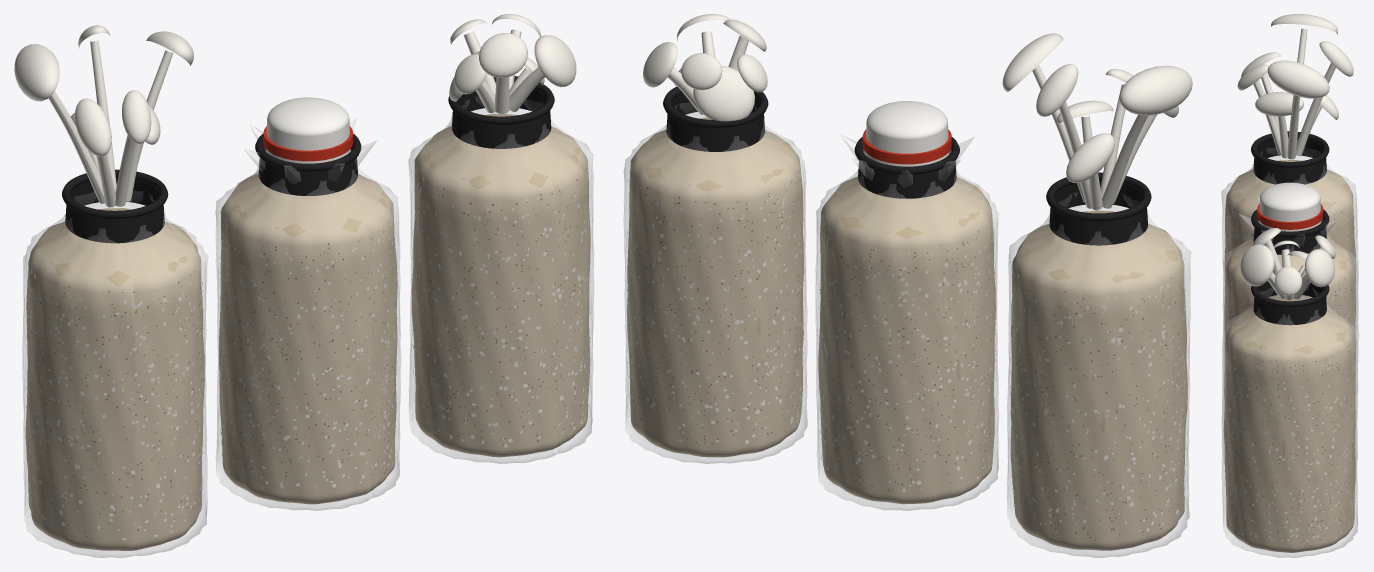
Rendered from baglog_jamur.glb.
The picture shows the model from 3 angles, left to right: view 1: azimuth 30°, elevation 25°; view 2: azimuth 150°, elevation 25°; view 3: azimuth 270°, elevation 25°; orthographic projection. The views are drawn at different scales.
Parts seen in each view (by area): view 1: baglog_kiri_plastic_bag, baglog_kanan_plastic_bag, baglog_tengah_plastic_bag, baglog_tengah_substrate, baglog_kanan_substrate, baglog_kiri_substrate, baglog_kiri, baglog_kanan, baglog_kiri_neck_ring, baglog_kanan_neck_ring, baglog_kiri_mycelium, baglog_tengah_plug_top (+12 smaller); view 2: baglog_kiri_plastic_bag, baglog_kanan_plastic_bag, baglog_tengah_plastic_bag, baglog_kiri_substrate, baglog_kanan_substrate, baglog_tengah_substrate, baglog_kiri, baglog_kanan, baglog_kiri_neck_ring, baglog_kanan_neck_ring, baglog_tengah_plug_top, baglog_tengah_mycelium (+12 smaller); view 3: baglog_kanan_plastic_bag, baglog_kanan_substrate, baglog_kiri, baglog_kiri_plastic_bag, baglog_kiri_substrate, baglog_kanan, baglog_tengah_plastic_bag, baglog_tengah_substrate, baglog_kiri_neck_ring, baglog_kanan_neck_ring, baglog_kanan_mycelium, baglog_tengah_plug_top (+8 smaller).
Part boxes in pixels (bbox=[...]): baglog_kiri_plastic_bag: bbox=[22, 191, 208, 557]; baglog_kanan_plastic_bag: bbox=[408, 97, 594, 463]; baglog_tengah_plastic_bag: bbox=[215, 164, 401, 510]; baglog_tengah_substrate: bbox=[219, 173, 397, 504]; baglog_kanan_substrate: bbox=[411, 113, 590, 457]; baglog_kiri_substrate: bbox=[25, 208, 204, 550]; baglog_kiri: bbox=[14, 25, 193, 207]; baglog_kanan: bbox=[449, 14, 576, 113]; baglog_kiri_neck_ring: bbox=[65, 177, 164, 243]; baglog_kanan_neck_ring: bbox=[451, 89, 551, 148]; baglog_kiri_mycelium: bbox=[25, 266, 203, 540]; baglog_tengah_plug_top: bbox=[267, 97, 349, 136]; baglog_kiri_plastic_bag: bbox=[1007, 193, 1191, 557]; baglog_kanan_plastic_bag: bbox=[623, 102, 807, 463]; baglog_tengah_plastic_bag: bbox=[815, 166, 998, 510]; baglog_kiri_substrate: bbox=[1010, 210, 1187, 550]; baglog_kanan_substrate: bbox=[626, 117, 803, 457]; baglog_tengah_substrate: bbox=[818, 176, 995, 504]; baglog_kiri: bbox=[1002, 33, 1192, 210]; baglog_kanan: bbox=[643, 14, 767, 121]; baglog_kiri_neck_ring: bbox=[1049, 180, 1147, 245]; baglog_kanan_neck_ring: bbox=[666, 93, 764, 151]; baglog_tengah_plug_top: bbox=[866, 101, 947, 139]; baglog_tengah_mycelium: bbox=[819, 217, 995, 492]; baglog_kanan_plastic_bag: bbox=[1222, 287, 1359, 557]; baglog_kanan_substrate: bbox=[1223, 299, 1355, 552]; baglog_kiri: bbox=[1237, 14, 1353, 159]; baglog_kiri_plastic_bag: bbox=[1221, 148, 1358, 387]; baglog_kiri_substrate: bbox=[1224, 160, 1356, 328]; baglog_kanan: bbox=[1240, 228, 1335, 300]; baglog_tengah_plastic_bag: bbox=[1222, 231, 1358, 463]; baglog_tengah_substrate: bbox=[1224, 239, 1356, 404]; baglog_kiri_neck_ring: bbox=[1253, 137, 1326, 184]; baglog_kanan_neck_ring: bbox=[1253, 281, 1326, 325]; baglog_kanan_mycelium: bbox=[1224, 340, 1356, 542]; baglog_tengah_plug_top: bbox=[1260, 182, 1320, 211].
Bounding box in the file's own units: 0.3737 × 0.3071 × 0.1092.
